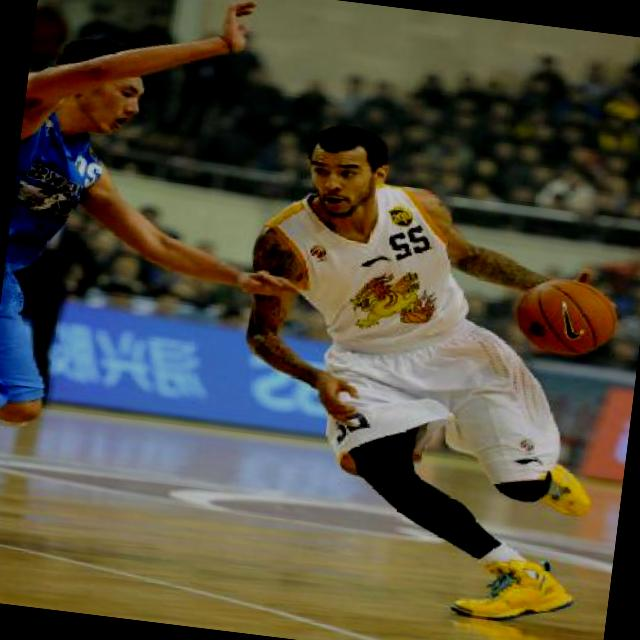Person: (174, 81, 640, 639)
